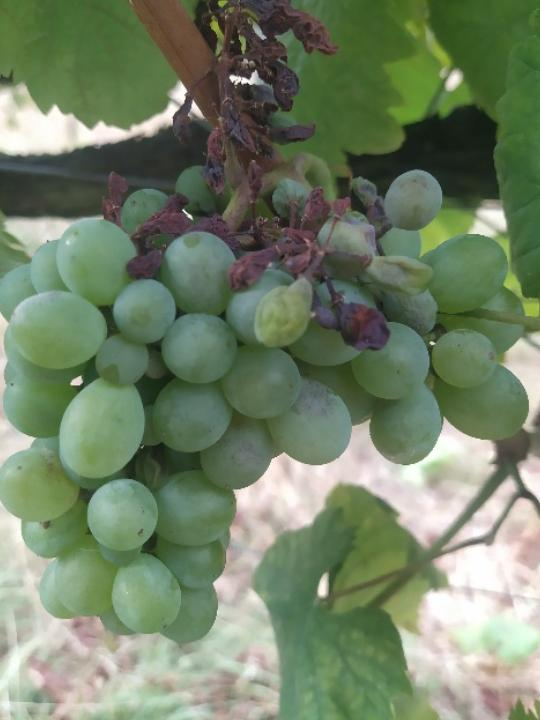grape: (0, 0, 535, 647)
